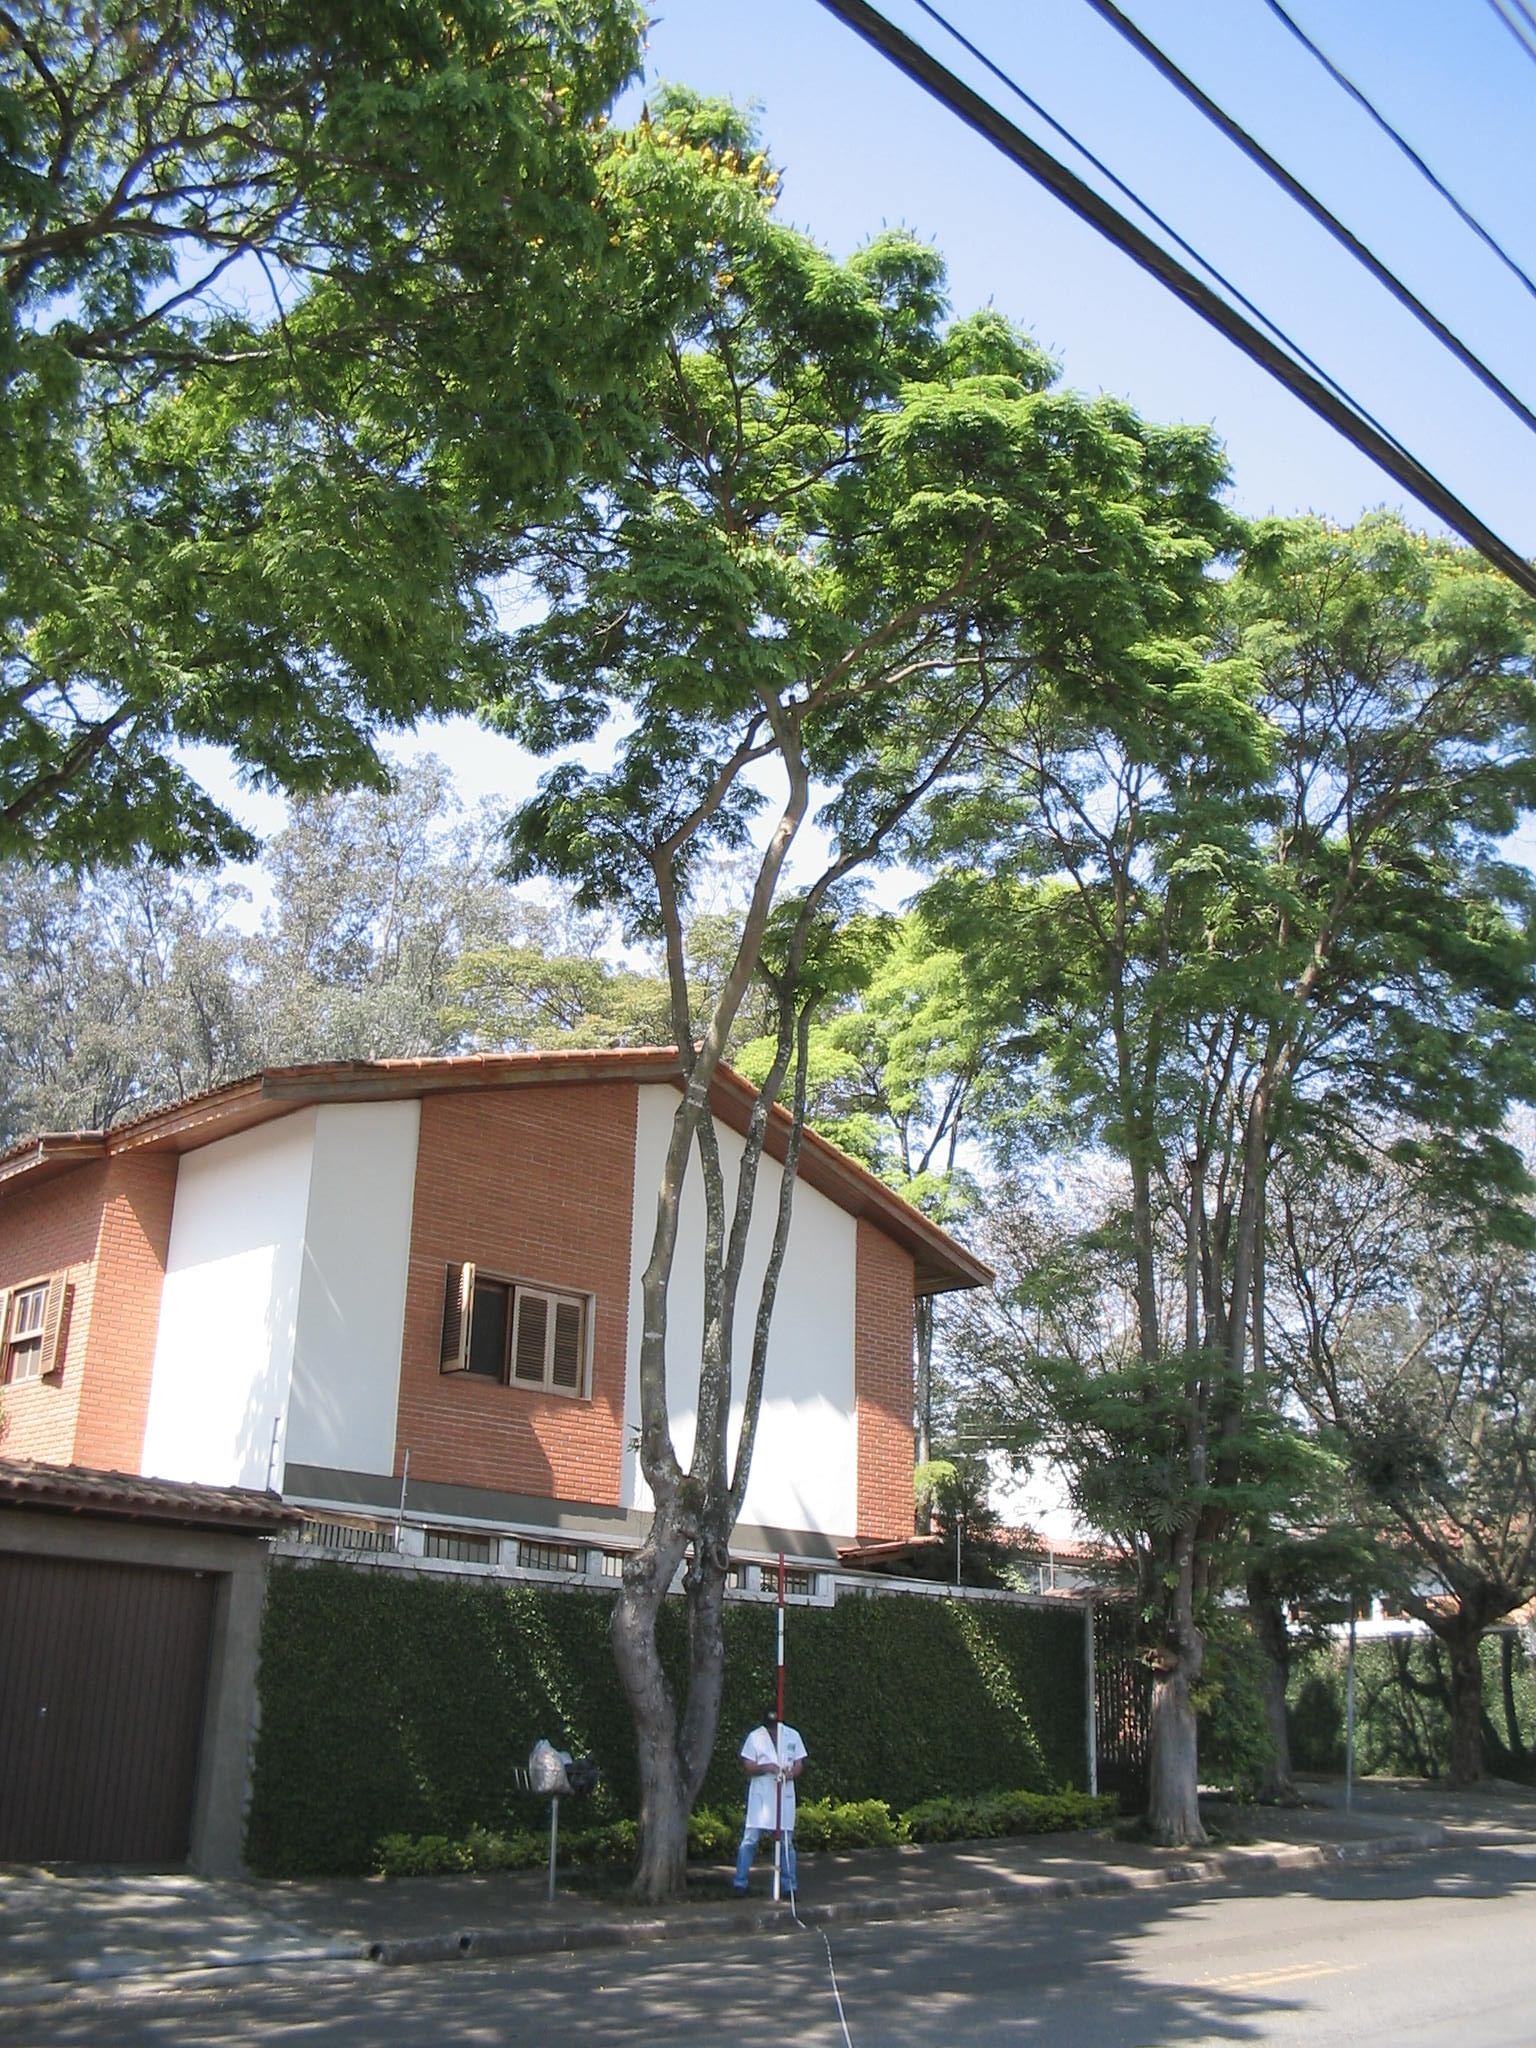crown: (474, 218, 1262, 950), (945, 508, 1525, 1274)
stem: (1100, 1617, 1238, 1845), (579, 1732, 737, 1900)
stick: (742, 1555, 815, 1900)
tree: (461, 211, 1271, 1904), (933, 505, 1528, 1850), (1267, 1190, 1530, 1800)
